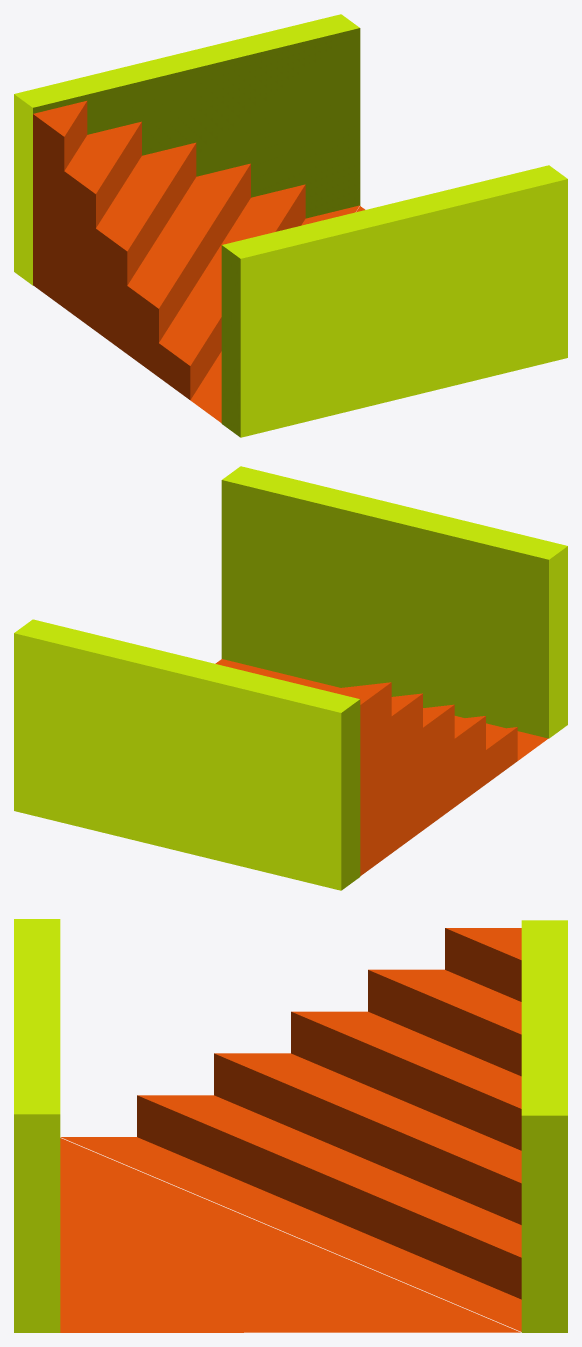
The picture shows the model from 3 angles, top to bottom: view 1: azimuth 30°, elevation 25°; view 2: azimuth 150°, elevation 25°; view 3: azimuth 270°, elevation 25°; orthographic projection. The views are drawn at different scales.
Parts seen in each view (by area): view 1: T_2_5_0; view 2: T_2_5_0; view 3: T_2_5_0.
Boxes of the visible parts, left/top/right/bottom form: T_2_5_0: left=14, top=14, right=567, bottom=437; T_2_5_0: left=14, top=466, right=567, bottom=890; T_2_5_0: left=14, top=919, right=567, bottom=1332.
Size of the model in its own units: 99.81 by 52.15 by 120.
